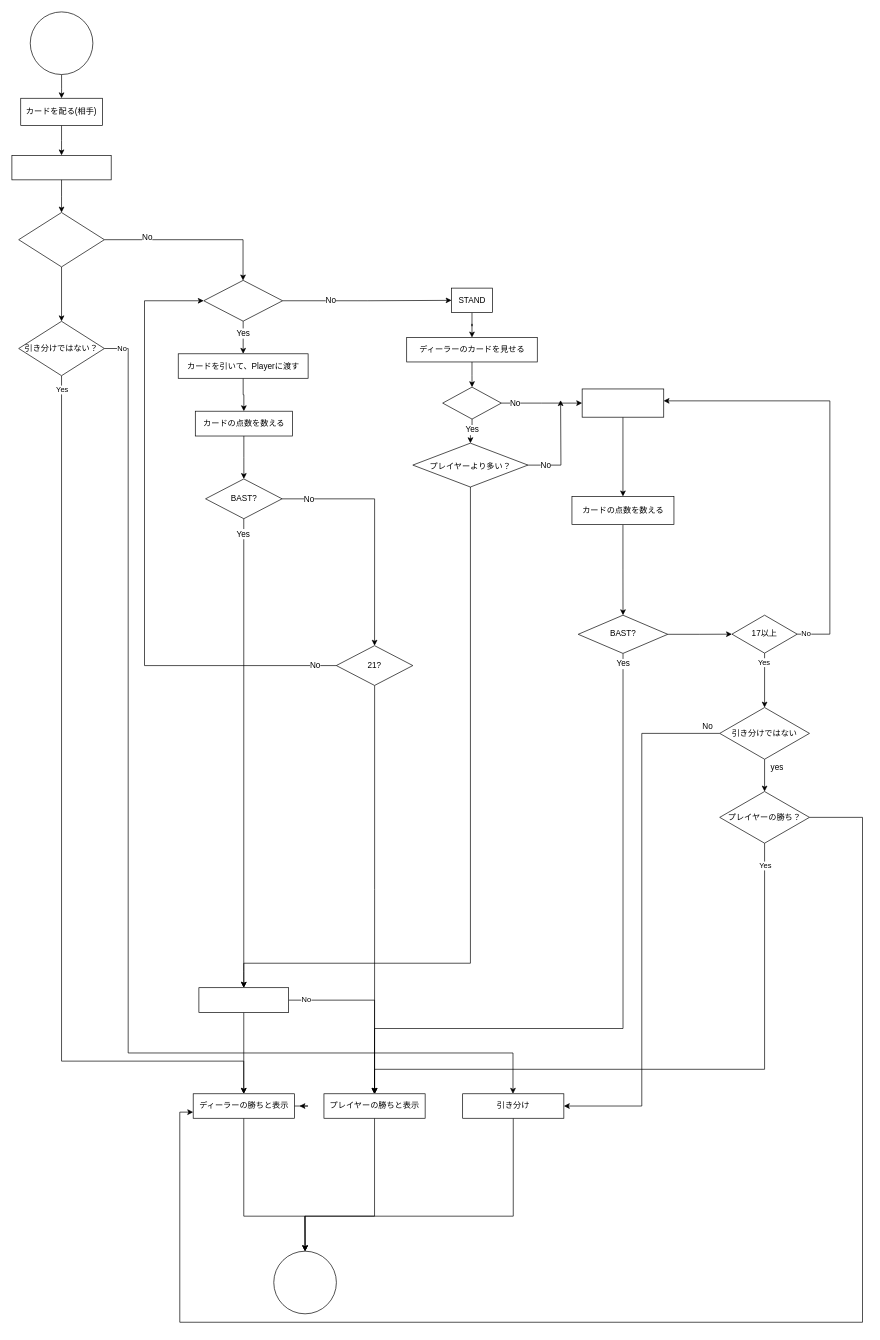
The diagram is 880 pixels wide and 1340 high, and some of its shapes have lost their labels. The shapes that lost their labels are listed below. From the top down, each one's centre as x and y in pixels, then its label:
[61,43]: 開始
[61,167]: ディーラーのカード を配る
[61,239]: ディーラーは 21?
[243,300]: HIT
[471,402]: 17以上？
[622,402]: ディーラー カードを引く
[243,1000]: ディーラーの勝ち？
[304,1282]: 終了
